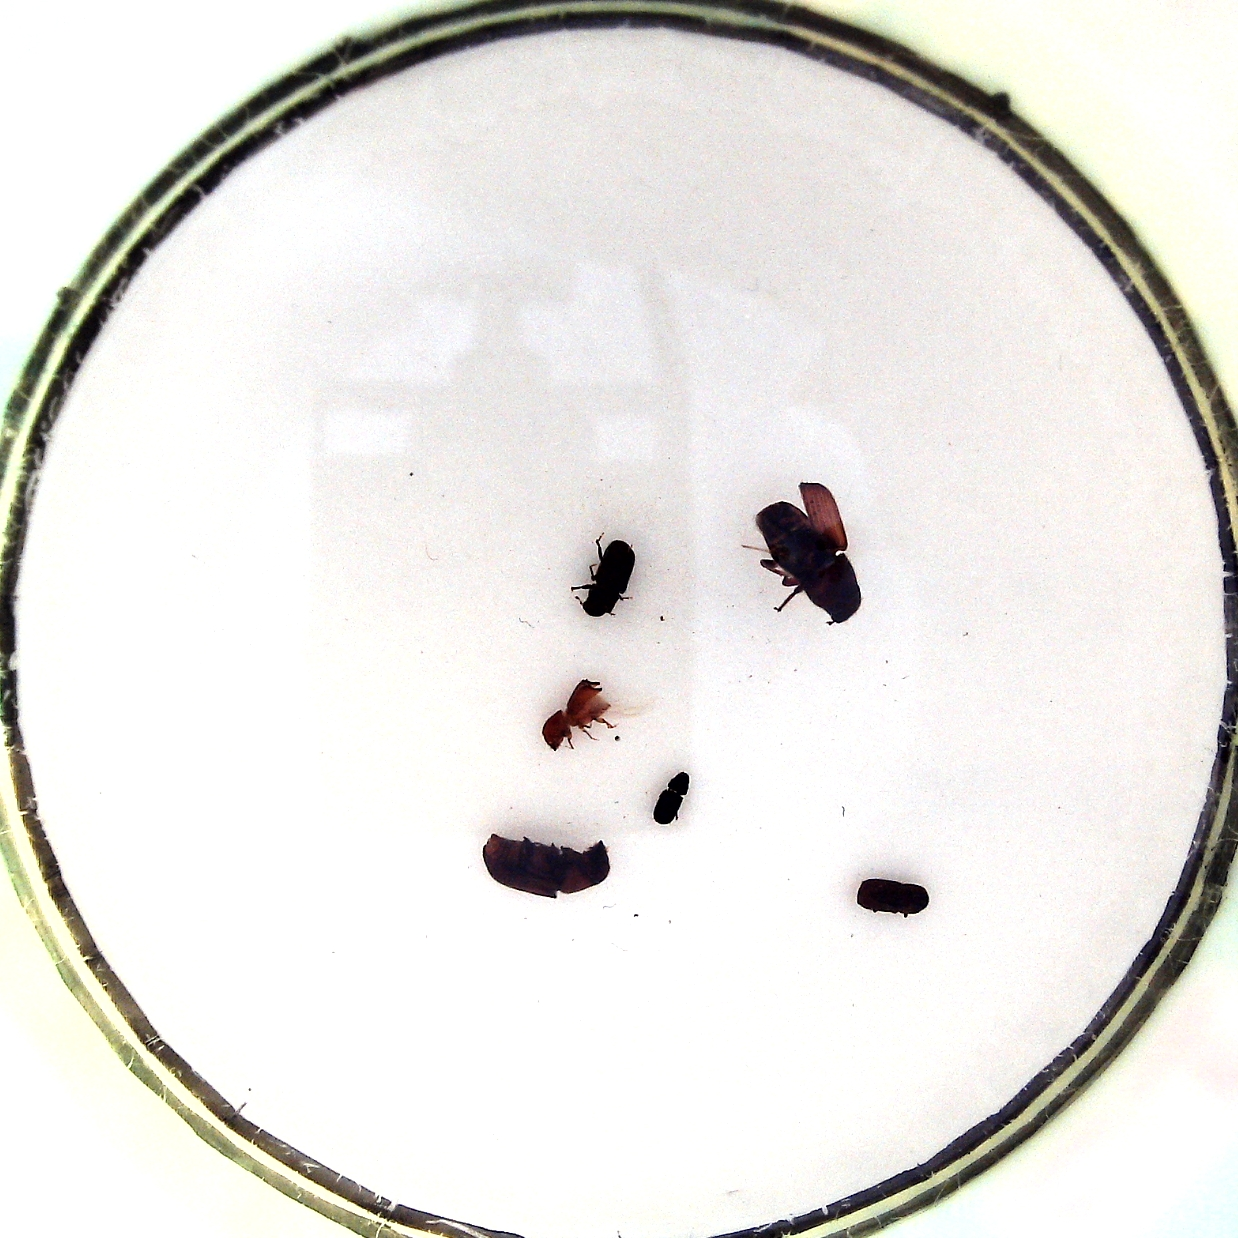Leconte: (751, 483, 867, 626), (480, 828, 616, 898)
Linnaeus: (854, 873, 934, 921)
acuminatus: (539, 678, 619, 755)
armandi: (567, 534, 641, 621)
coleoptera: (650, 772, 695, 829)
